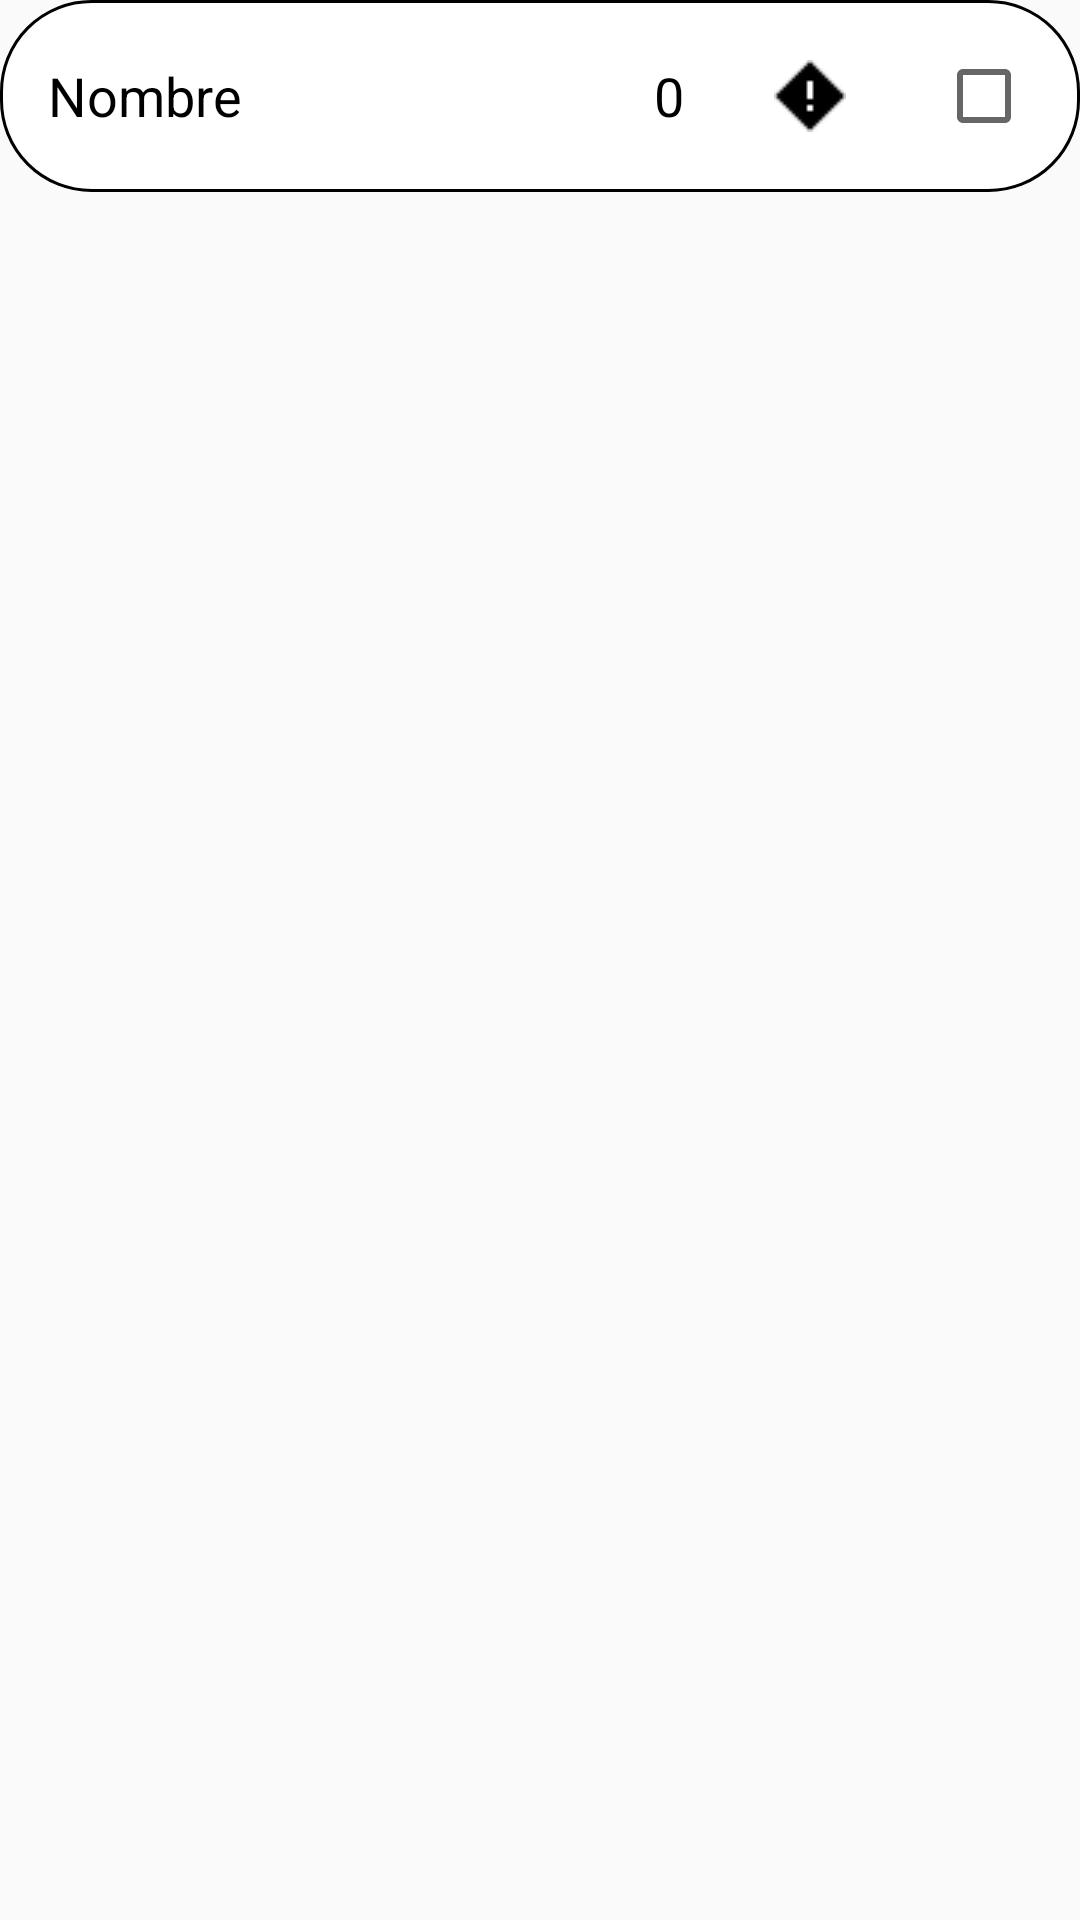

Screen size 1080*1920. Icon name, then its box in pixels as [left=x1, top=y1, right=x2, bottom=y2]:
important: [left=774, top=60, right=846, bottom=132]
